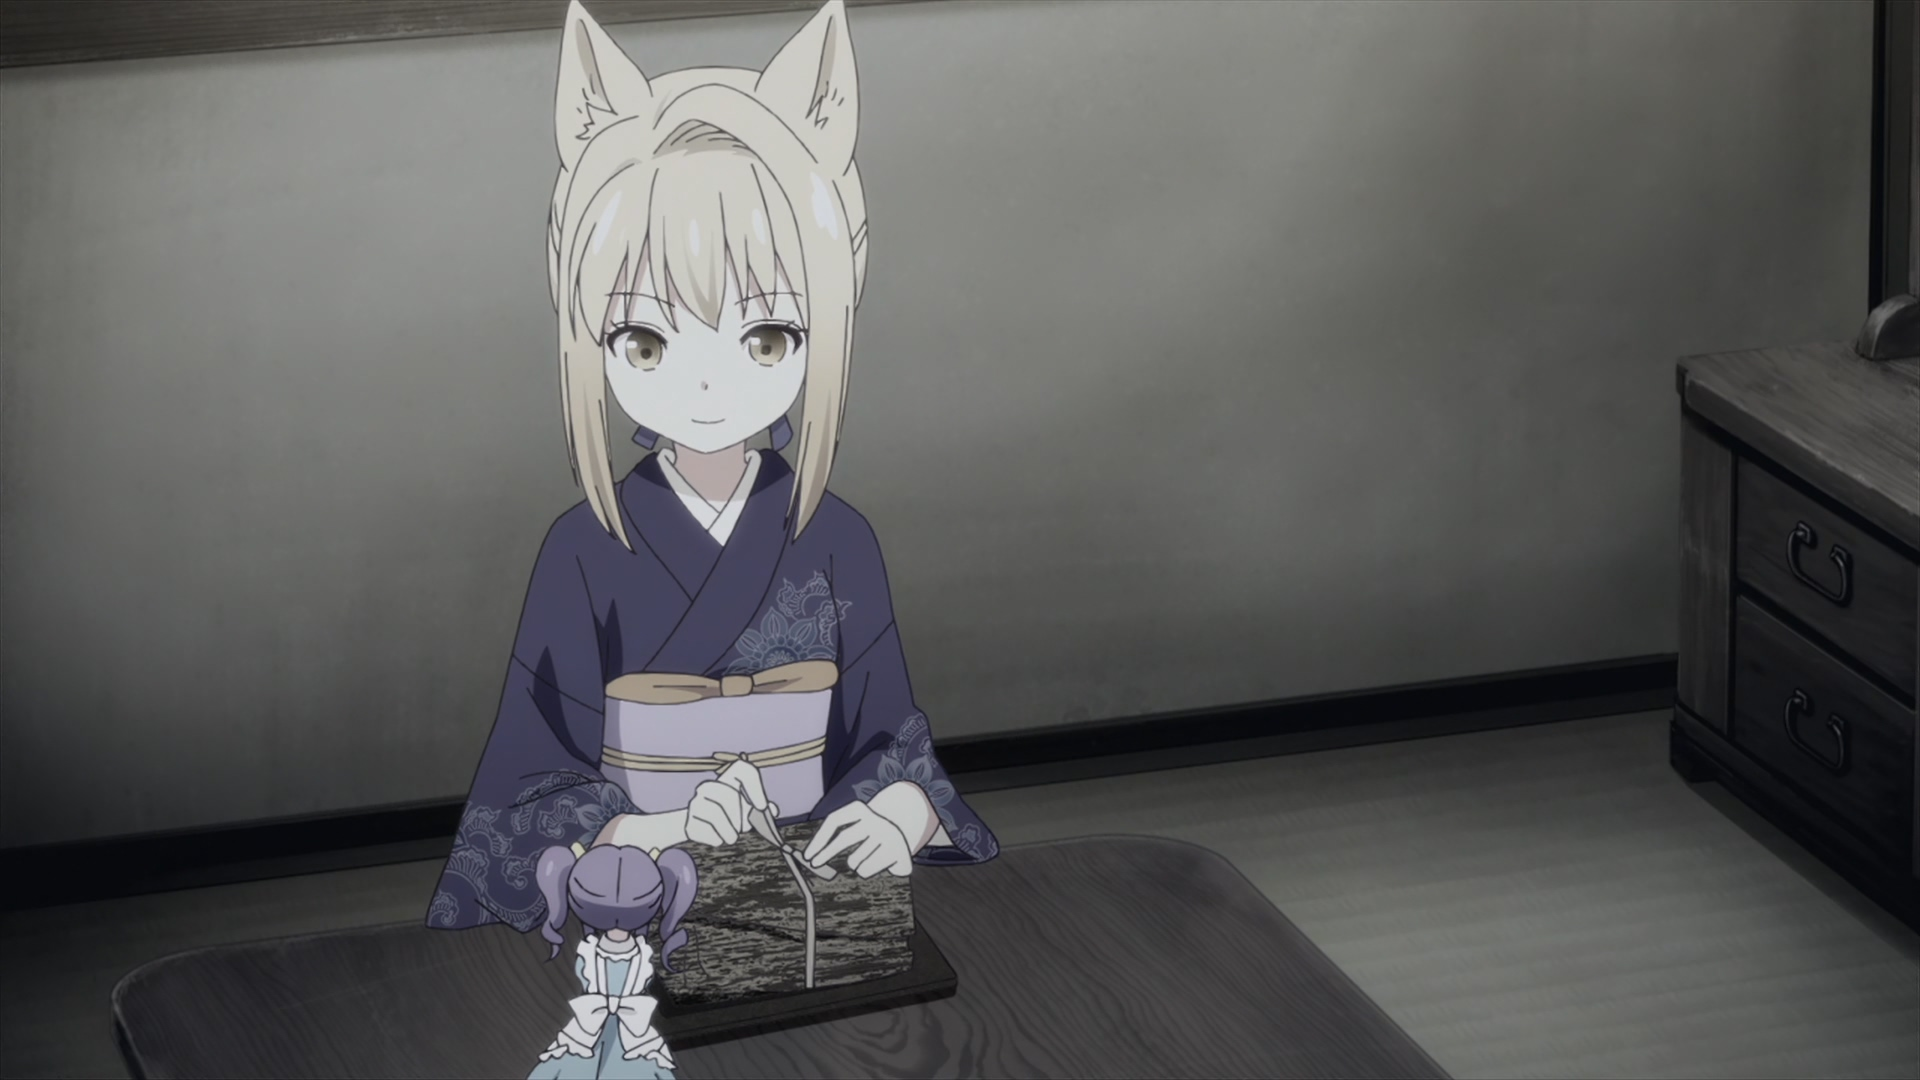桐: (430, 1, 998, 932)
阿菊: (526, 843, 698, 1080)
